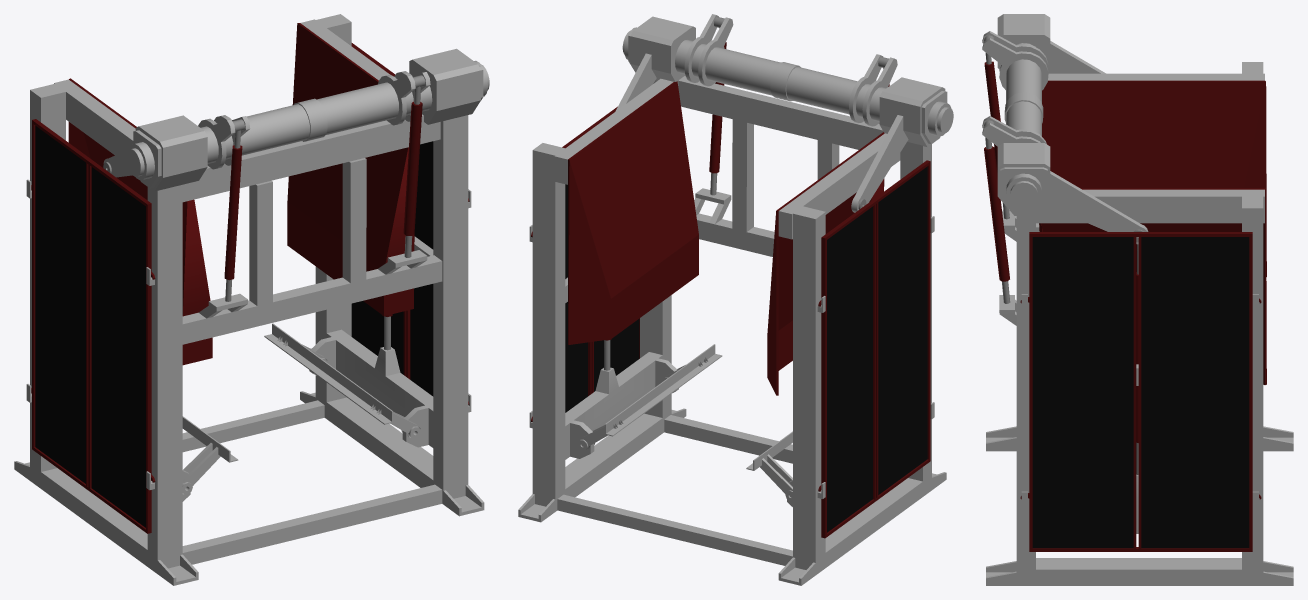
The model's file is SM_ProdLine_storage_big.FBX.
3 renders of one model, left to right at view 1: azimuth 30°, elevation 25°; view 2: azimuth 150°, elevation 25°; view 3: azimuth 270°, elevation 25°, orthographic. The views are drawn at different scales.
Visible parts, largest first — view 1: SM_ProdLine_storage_big_LOD0; view 2: SM_ProdLine_storage_big_LOD0; view 3: SM_ProdLine_storage_big_LOD0.
Boxes of the visible parts, x1,y1,x2,y2 form: SM_ProdLine_storage_big_LOD0: (14, 14, 489, 585); SM_ProdLine_storage_big_LOD0: (518, 14, 953, 585); SM_ProdLine_storage_big_LOD0: (982, 14, 1293, 585).
Size of the model in its own units: 221 by 177 by 273.
